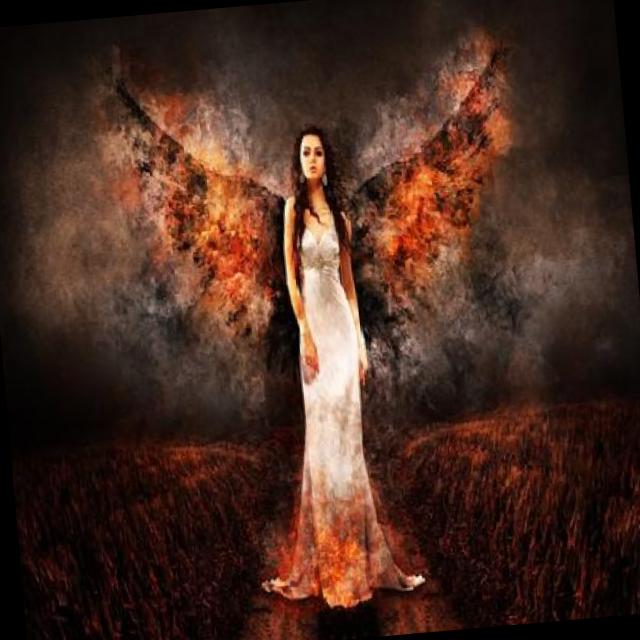person: (229, 111, 421, 625)
